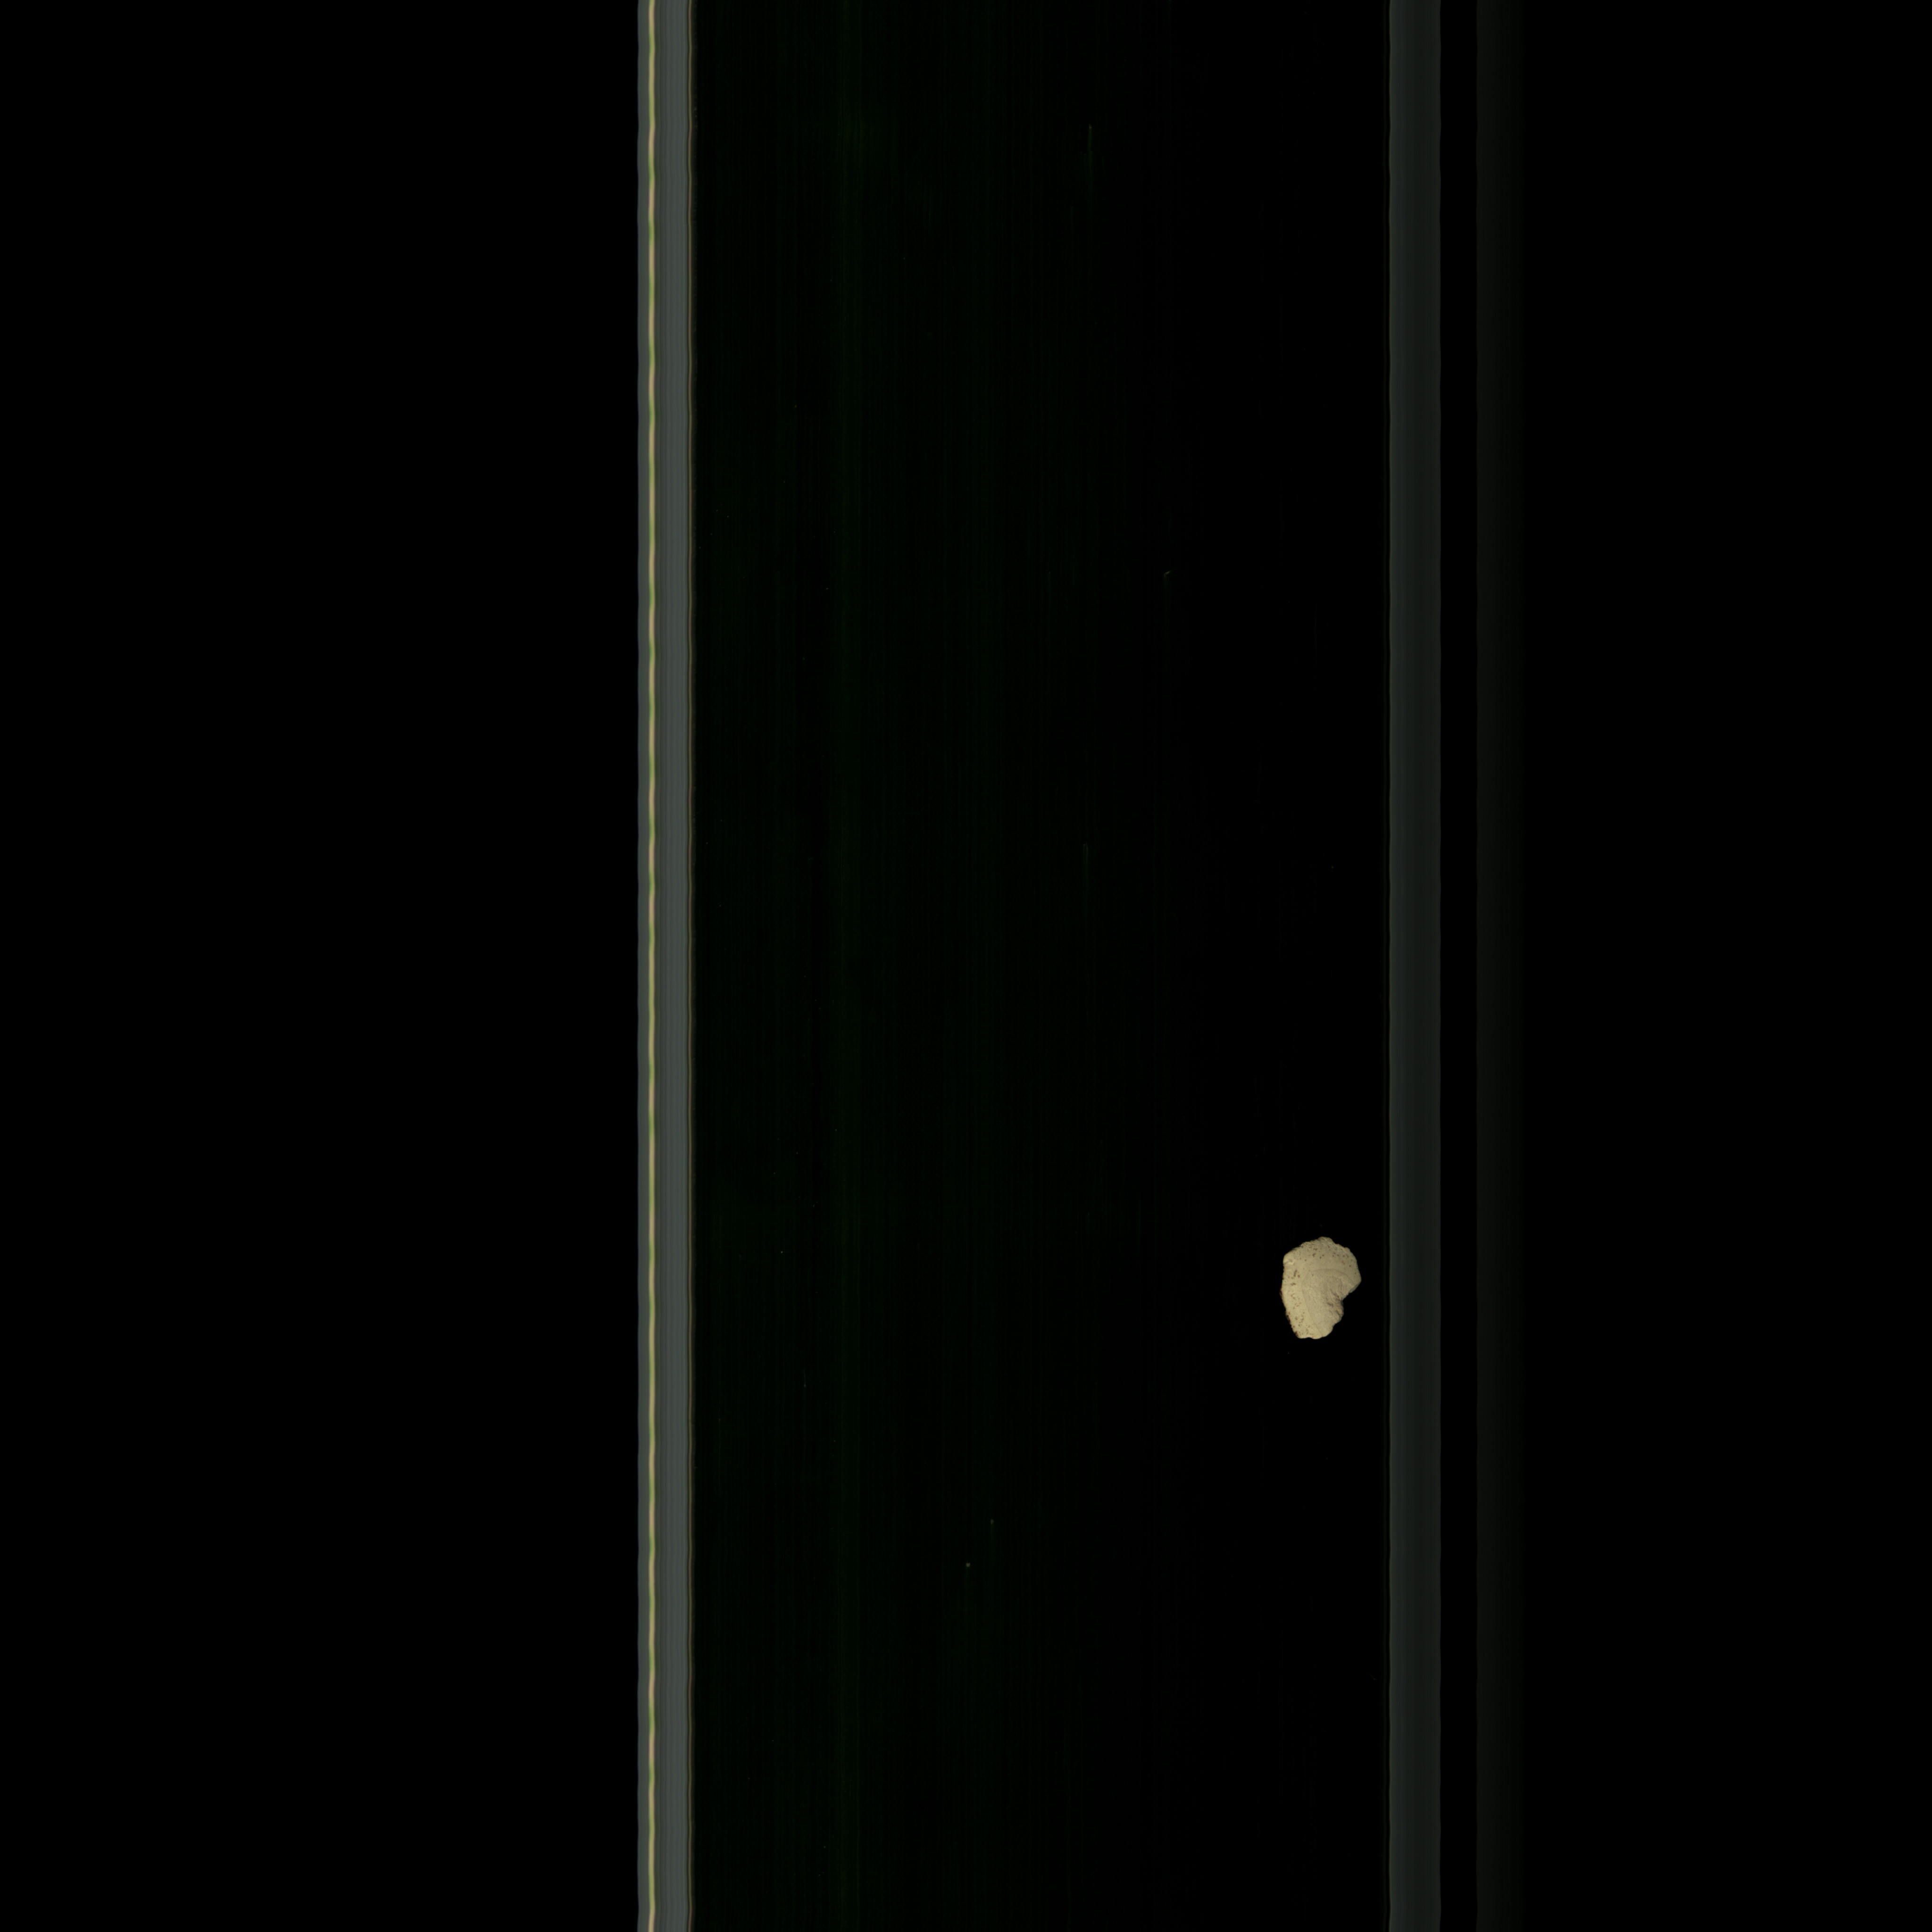debris: (1267, 1228, 1371, 1355)
